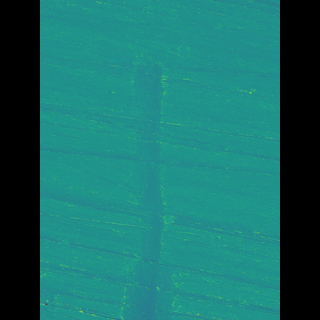Loch: (129, 54, 174, 319)
